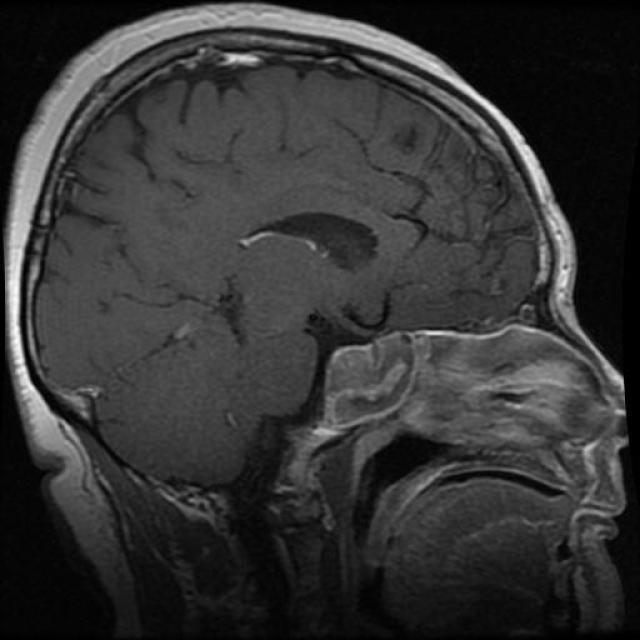pituitary: (306, 325, 417, 441)
